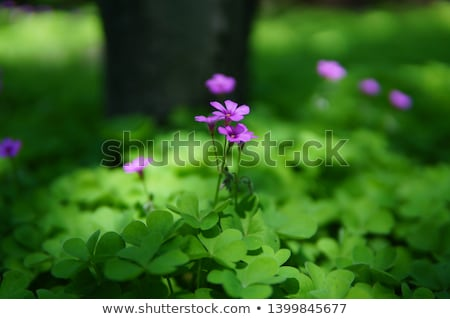oxalis: (68, 193, 419, 299)
